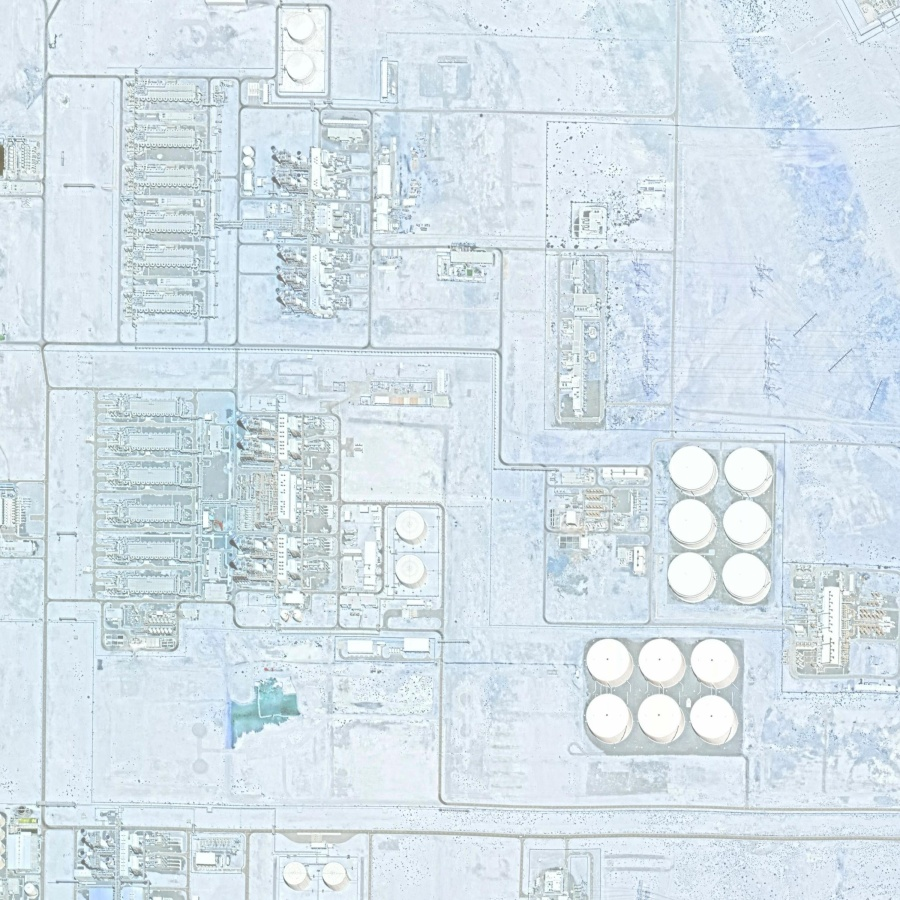PowerPlant: (79, 384, 441, 664)
